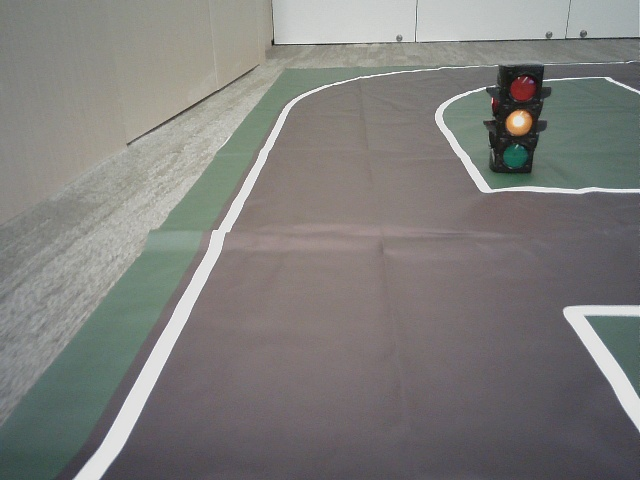yellow: (498, 71, 536, 170)
